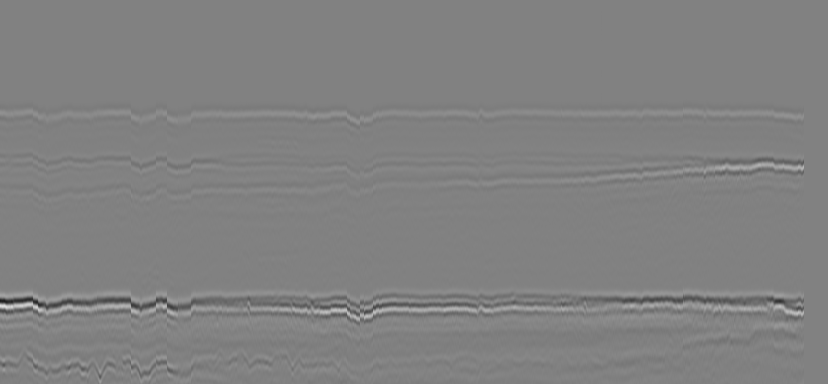fault: (339, 97, 381, 146), (127, 148, 161, 205), (123, 93, 163, 141), (168, 151, 201, 207), (342, 153, 378, 204), (168, 94, 201, 145)
